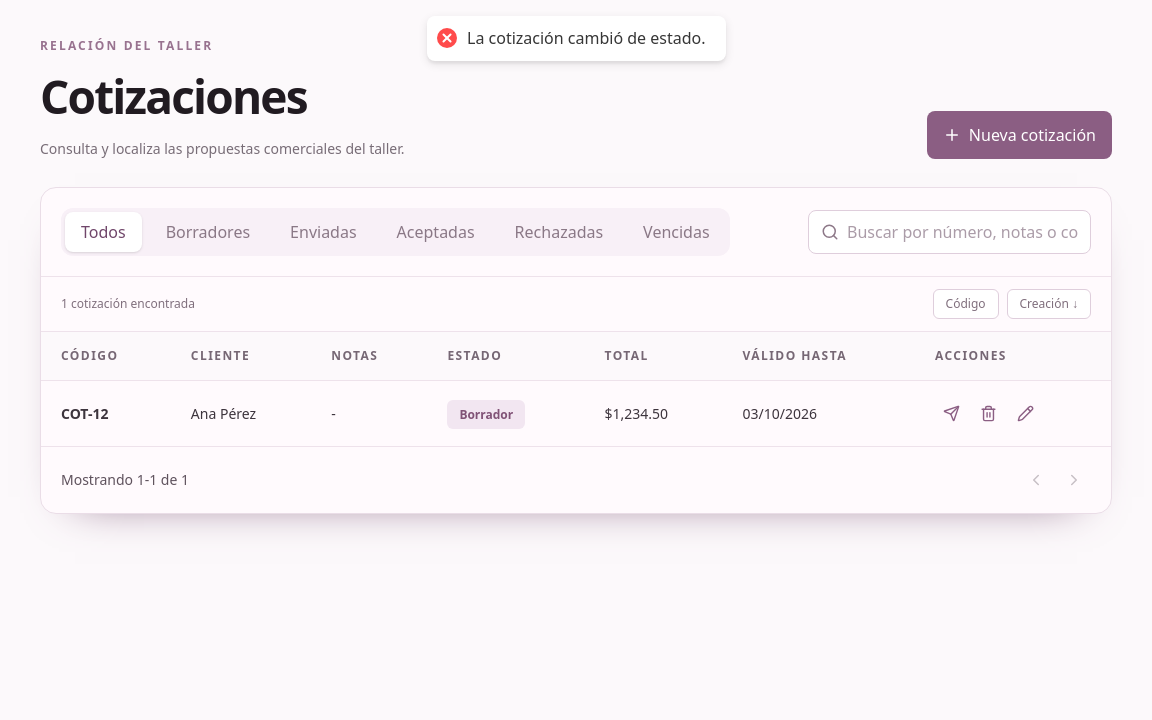
Test: QuotesPage › refreshes the list after a successful lifecycle mutation
Expected: the text "COT-12" is shown, 61,404 -> 108,422
Click the button named "Enviar cotización" at (952, 414), box 935,397 -> 968,430
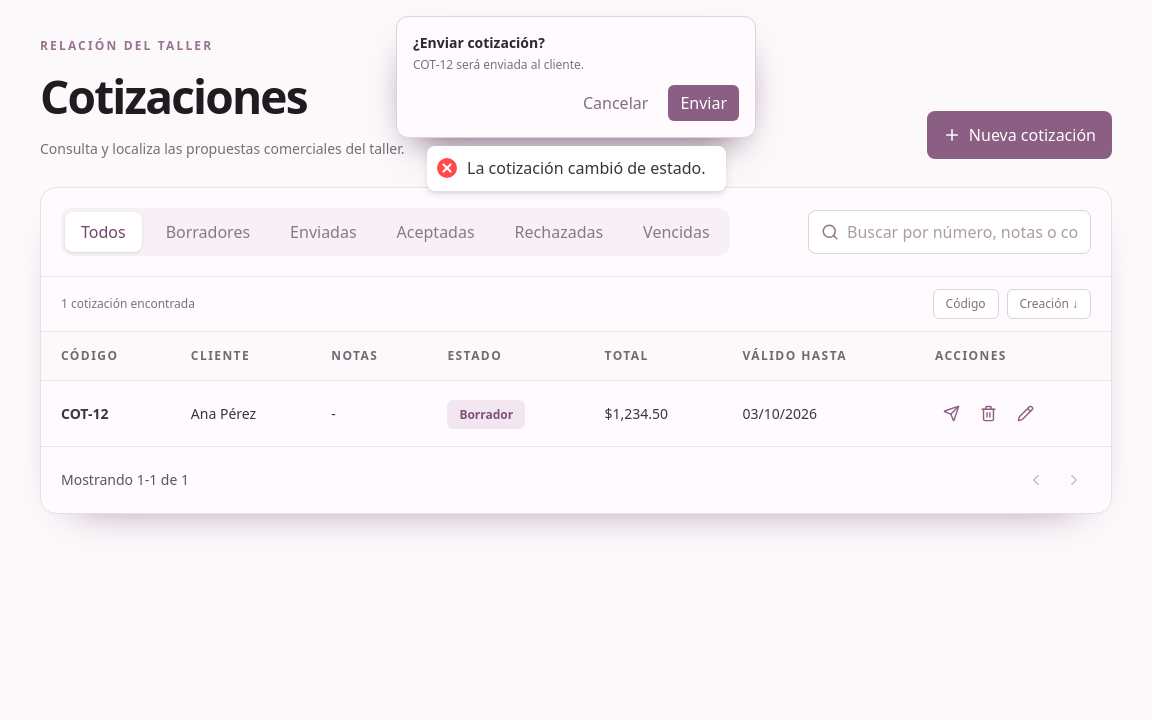
Click the button "Enviar" at (704, 103), box 668,85 -> 739,121
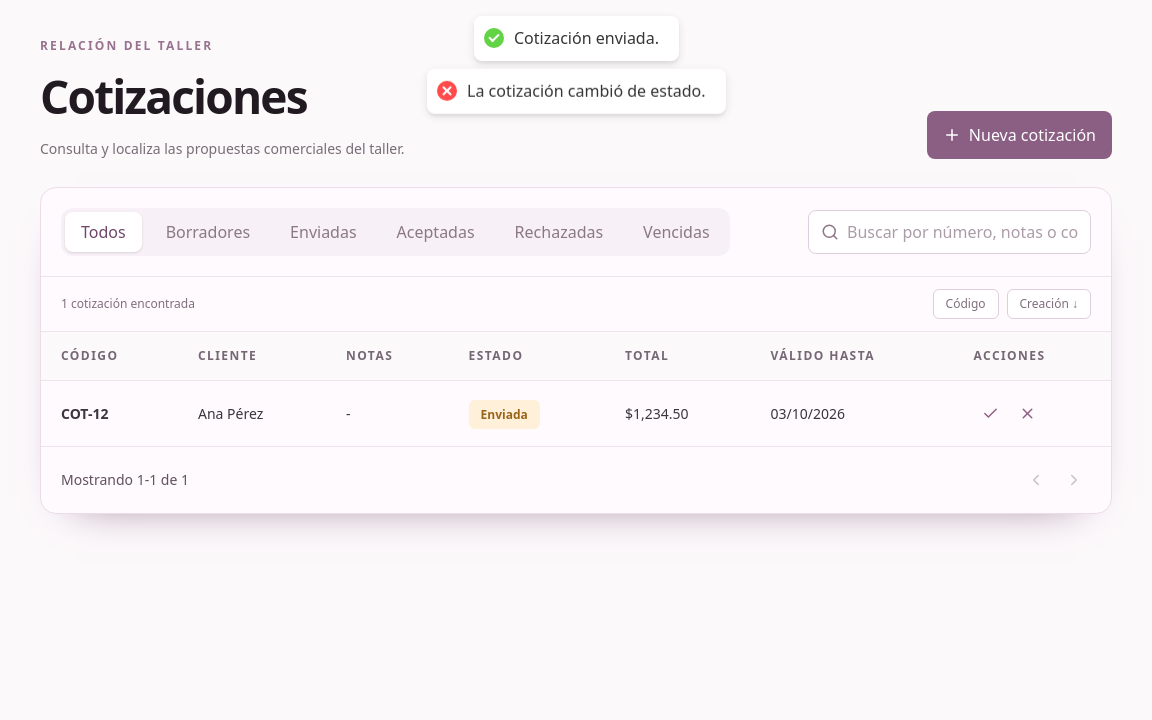
Now the text "Enviada" is shown, box 469,400 -> 540,428
Now the text "Enviar cotización" is gone
Now the button named "Aceptar cotización" is shown, box 974,397 -> 1007,430
